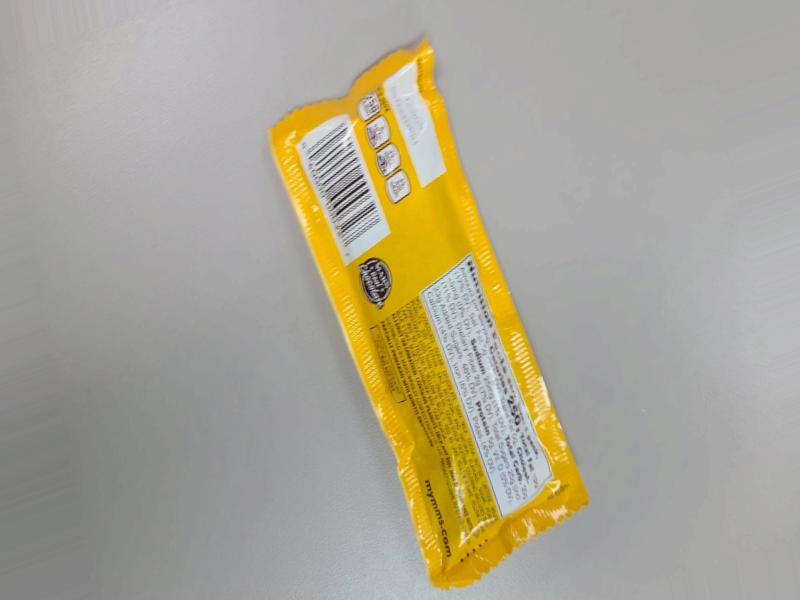m&m: (291, 95, 641, 548)
